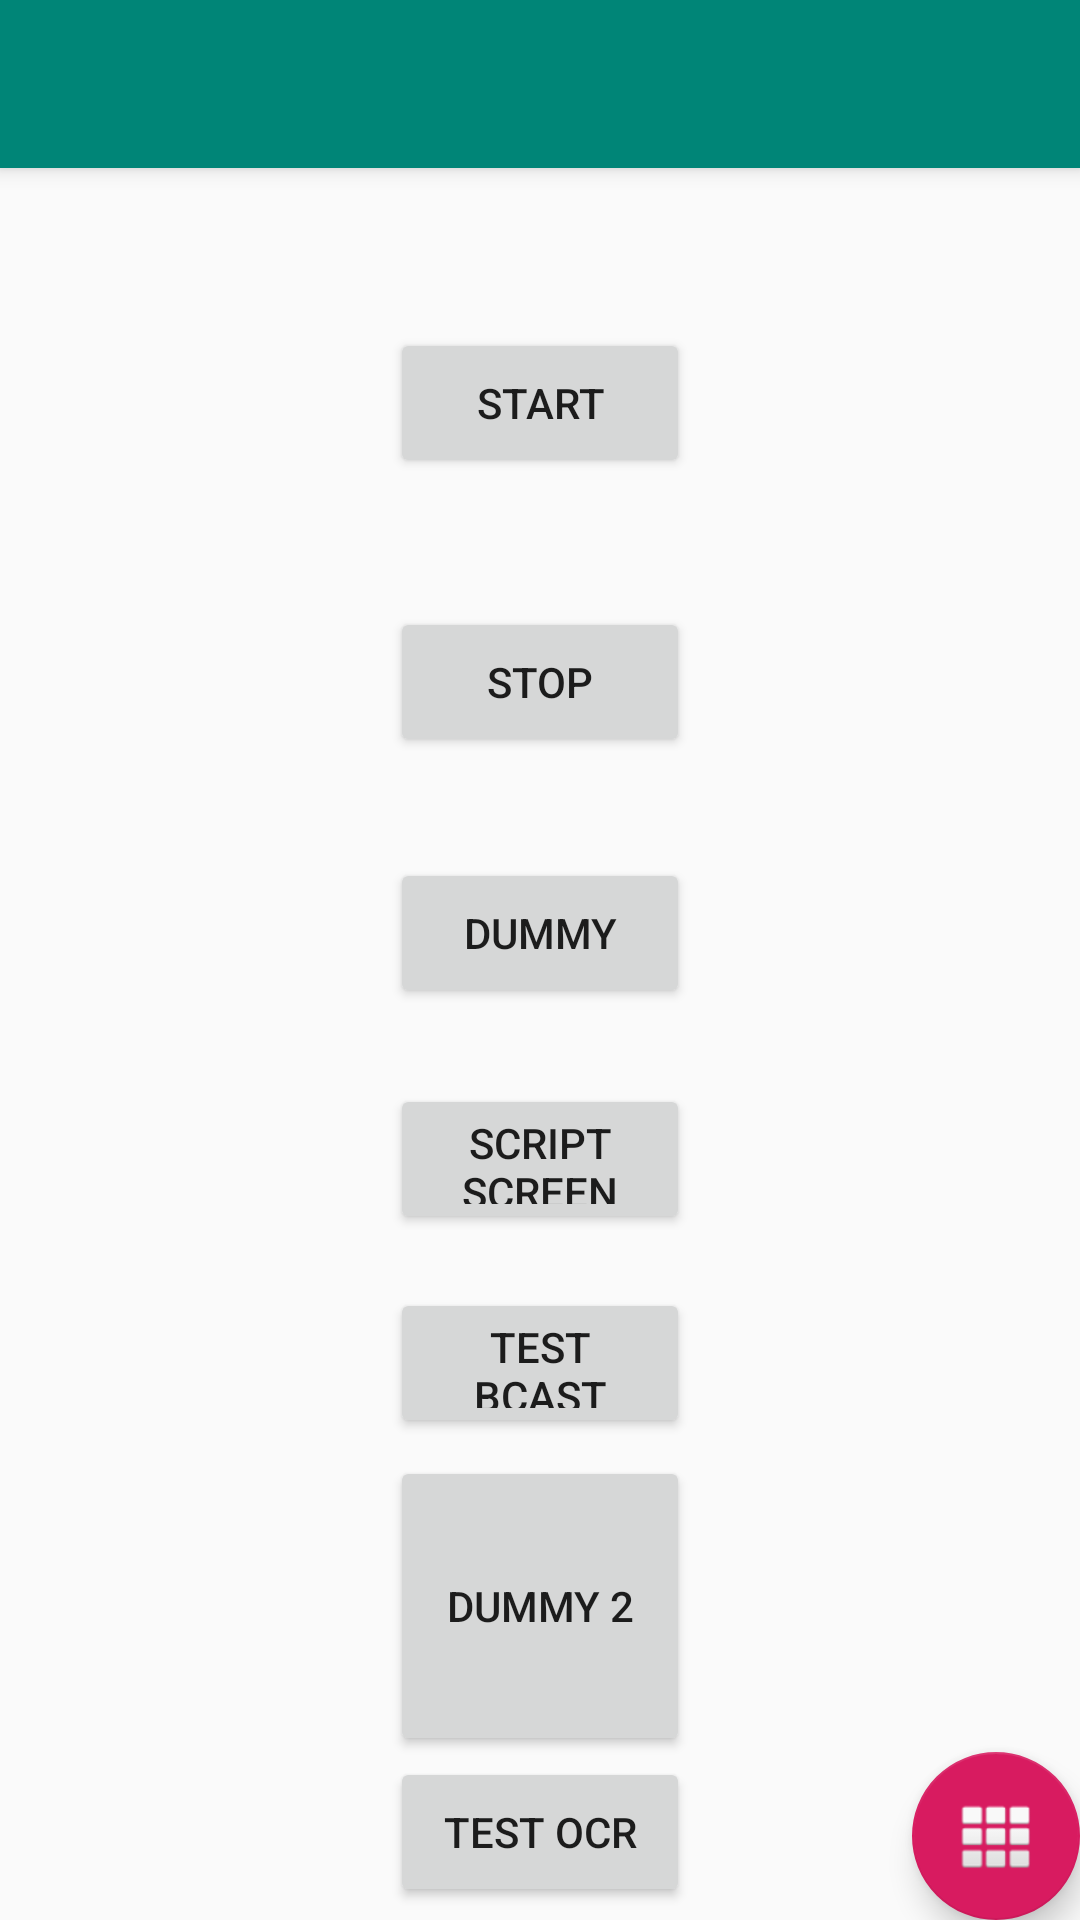

Where to tap for icons on this 1080w x 1920h app screen, as point (x, y):
dialer: point (996, 1836)
